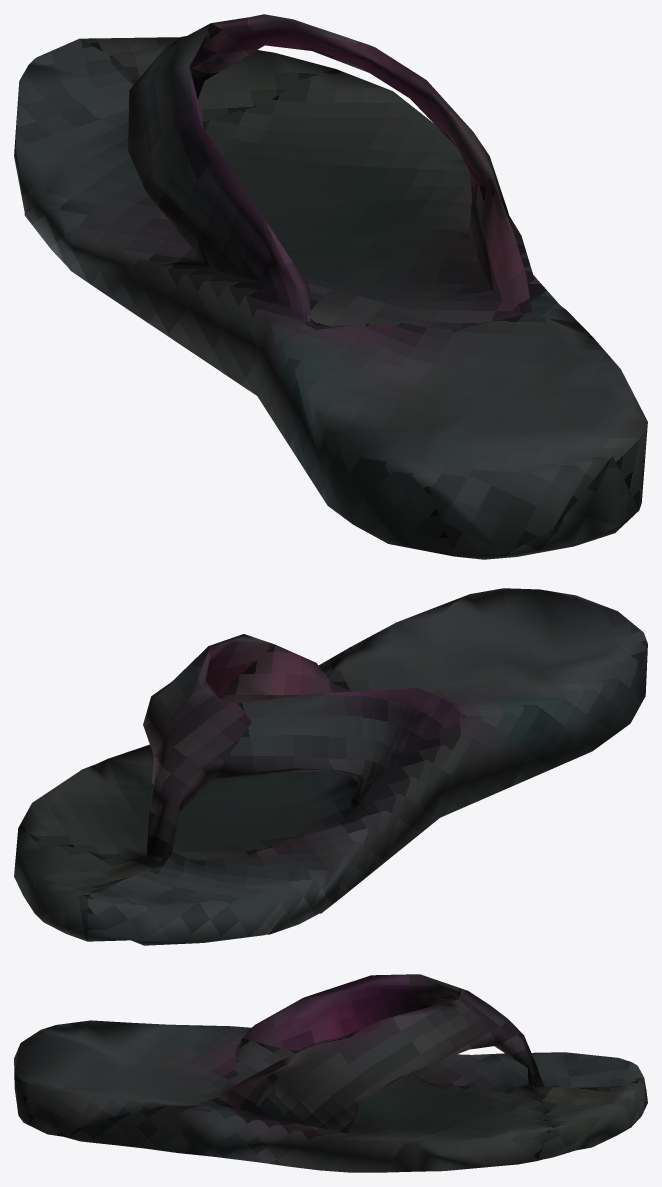
File: REEF_ZENFUN-low.glb
3 renders of one model, top to bottom at view 1: azimuth 30°, elevation 25°; view 2: azimuth 150°, elevation 25°; view 3: azimuth 270°, elevation 25°, orthographic. The views are drawn at different scales.
Visible parts, largest first — view 1: REEF_ZENFUN; view 2: REEF_ZENFUN; view 3: REEF_ZENFUN.
Part boxes in pixels (x1,y1,x2,y2): REEF_ZENFUN: (14,14,647,559); REEF_ZENFUN: (14,588,647,945); REEF_ZENFUN: (14,974,647,1172).
Bounding box in the file's own units: 0.1065 × 0.0594 × 0.249.
1 material, 1 textured.
